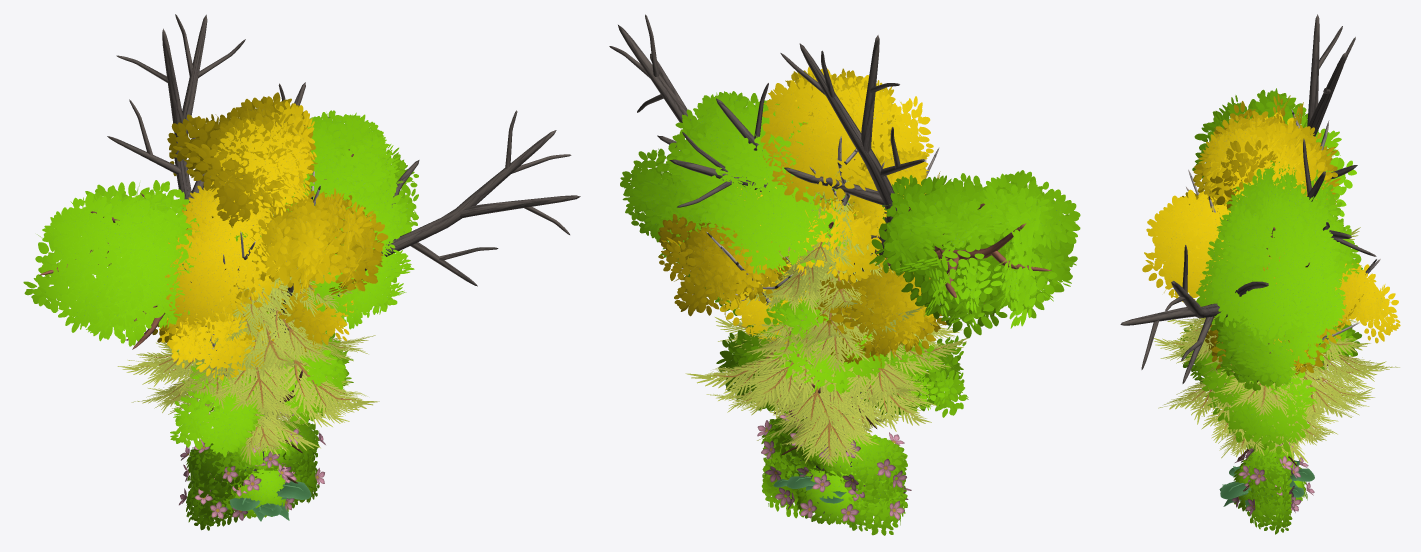
File: flora-6QNtqTEw.glb
3 renders of one model, left to right at view 1: azimuth 30°, elevation 25°; view 2: azimuth 150°, elevation 25°; view 3: azimuth 270°, elevation 25°, orthographic. The views are drawn at different scales.
Visible parts, largest first — view 1: NormalTree_4, BirchTree_5, BirchTree_1, PineTree_5, DeadTree_6, NormalTree_5, PineTree_1, BirchTree_4, Bush_Large_Flowers, Bush_Large, PineTree_3, Bush (+2 smaller); view 2: NormalTree_4, BirchTree_5, PineTree_5, PineTree_1, NormalTree_5, DeadTree_6, BirchTree_1, BirchTree_4, Bush_Large, Bush_Large_Flowers, Bush, Bush_Small (+2 smaller); view 3: NormalTree_4, BirchTree_5, NormalTree_5, PineTree_5, DeadTree_6, PineTree_1, BirchTree_1, Bush_Large_Flowers, Bush_Large, Bush_Small, Plant_2, BirchTree_4 (+3 smaller).
Part boxes in pixels (<box>): NormalTree_4: <box>23,110,418,434</box>; BirchTree_5: <box>165,92,388,334</box>; BirchTree_1: <box>152,101,346,348</box>; PineTree_5: <box>117,214,375,464</box>; DeadTree_6: <box>107,14,580,472</box>; NormalTree_5: <box>170,312,353,457</box>; PineTree_1: <box>128,267,379,452</box>; BirchTree_4: <box>159,218,353,380</box>; Bush_Large_Flowers: <box>180,414,325,526</box>; Bush_Large: <box>186,420,317,525</box>; PineTree_3: <box>206,377,308,483</box>; Bush: <box>228,468,289,517</box>; NormalTree_4: <box>620,91,1080,338</box>; BirchTree_5: <box>658,69,940,317</box>; PineTree_5: <box>706,190,962,466</box>; PineTree_1: <box>685,170,967,432</box>; NormalTree_5: <box>716,287,968,428</box>; DeadTree_6: <box>609,14,924,514</box>; BirchTree_1: <box>729,66,933,356</box>; BirchTree_4: <box>720,194,946,368</box>; Bush_Large: <box>761,418,907,530</box>; Bush_Large_Flowers: <box>757,412,907,523</box>; Bush: <box>796,462,867,524</box>; Bush_Small: <box>762,458,907,535</box>; NormalTree_4: <box>1192,88,1362,390</box>; BirchTree_5: <box>1142,93,1400,353</box>; NormalTree_5: <box>1178,322,1361,457</box>; PineTree_5: <box>1154,318,1399,462</box>; DeadTree_6: <box>1120,14,1376,463</box>; PineTree_1: <box>1158,227,1386,460</box>; BirchTree_1: <box>1193,112,1308,364</box>; Bush_Large_Flowers: <box>1245,441,1300,529</box>; Bush_Large: <box>1246,445,1294,529</box>; Bush_Small: <box>1246,480,1292,534</box>; Plant_2: <box>1219,466,1314,499</box>; BirchTree_4: <box>1205,318,1328,374</box>.
Bounding box in the file's own units: 6.84 × 6.66 × 3.68.
Materials: 12 (12 with a texture image).
